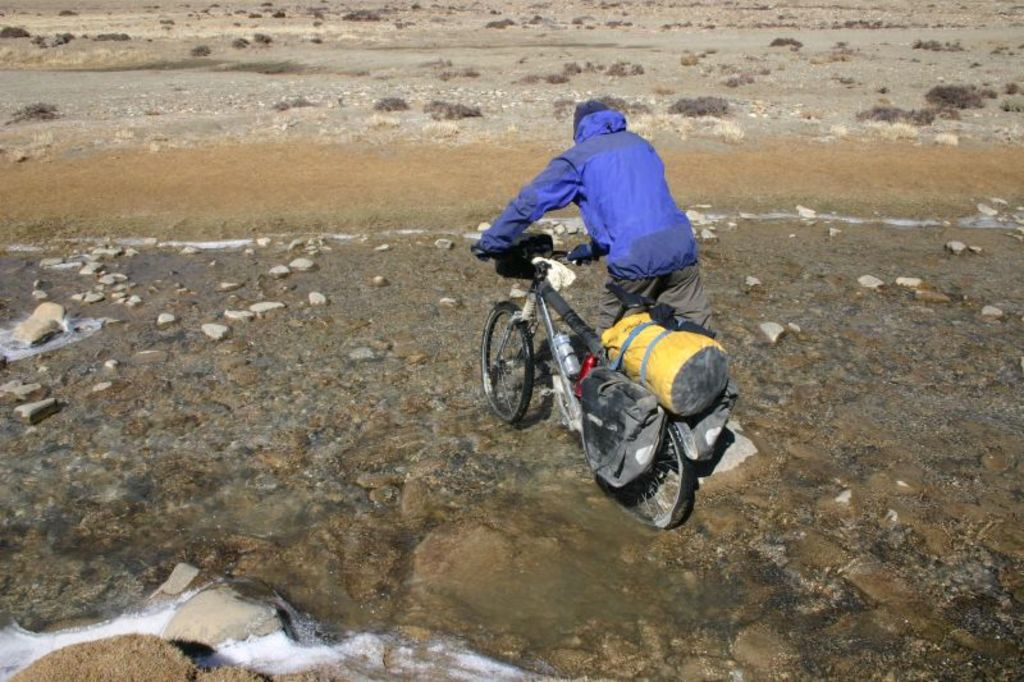Bike: (468, 242, 702, 542)
